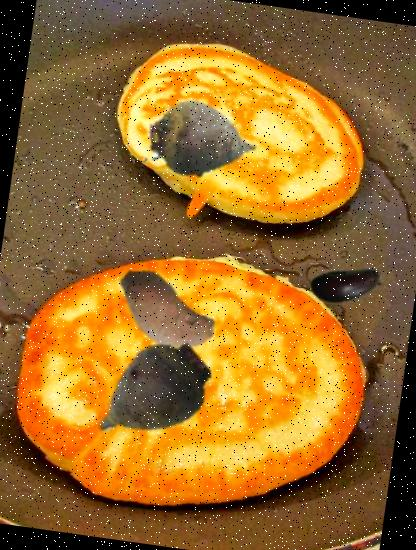Beetroot: (77, 323, 226, 472), (130, 68, 272, 210)
Eggplant: (305, 243, 391, 330)
Potato: (100, 250, 224, 374)
